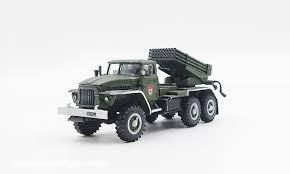MIL_SAM_TEL: (59, 47, 219, 142)
